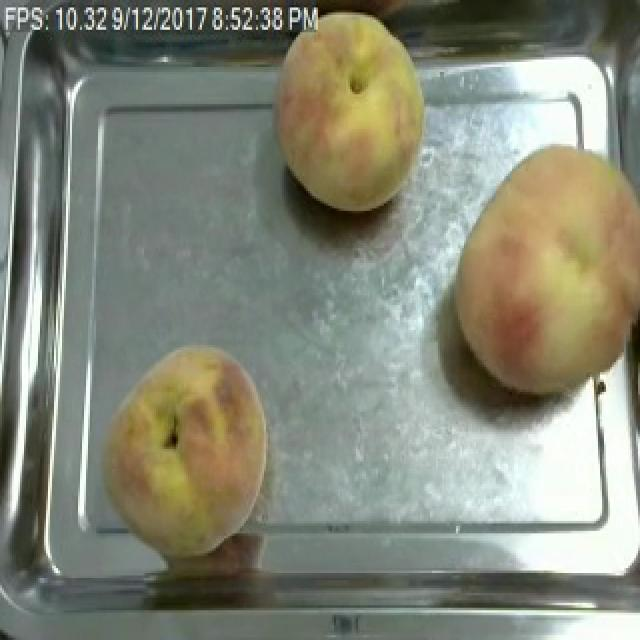Fruit: (442, 129, 640, 407), (82, 335, 278, 565), (264, 2, 440, 221)
